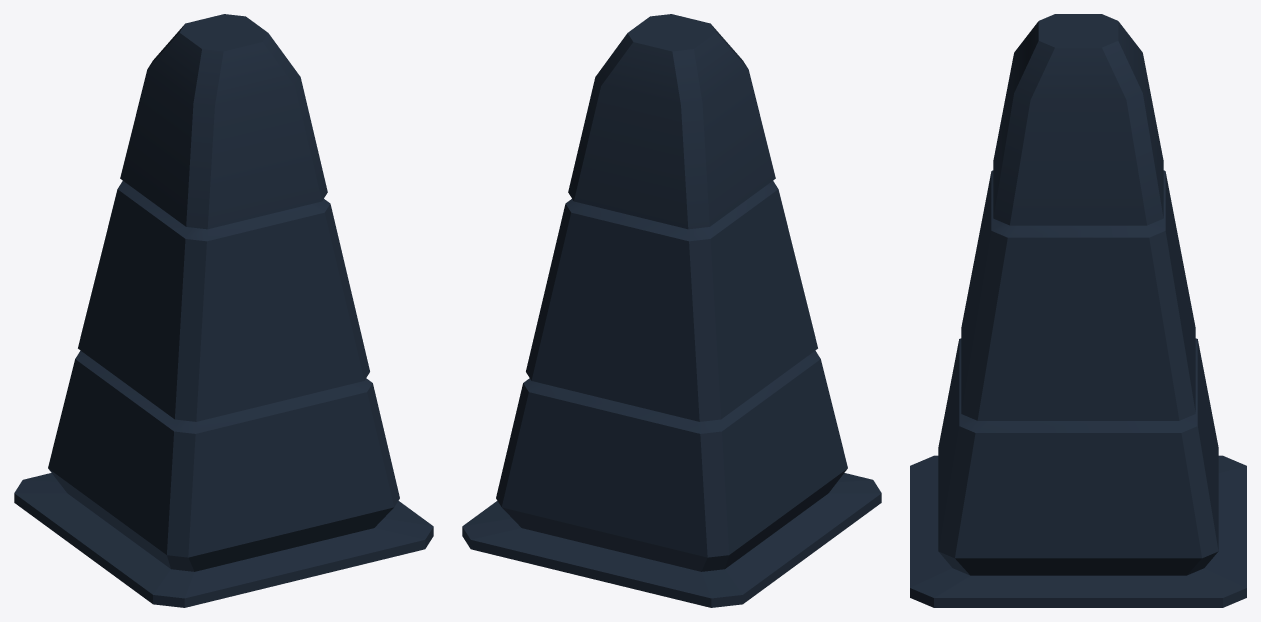
Rendered from Power Stone 01.FBX.
The picture shows the model from 3 angles, left to right: view 1: azimuth 30°, elevation 25°; view 2: azimuth 150°, elevation 25°; view 3: azimuth 270°, elevation 25°; orthographic projection. The views are drawn at different scales.
Visible parts, largest first — view 1: Power Stone 01; view 2: Power Stone 01; view 3: Power Stone 01.
Boxes of the visible parts, x1,y1,x2,y2 form: Power Stone 01: (14,14,433,607); Power Stone 01: (462,14,881,607); Power Stone 01: (910,14,1246,607).
Size of the model in its own units: 181 by 300 by 181.
Materials: 1 (1 with a texture image).
